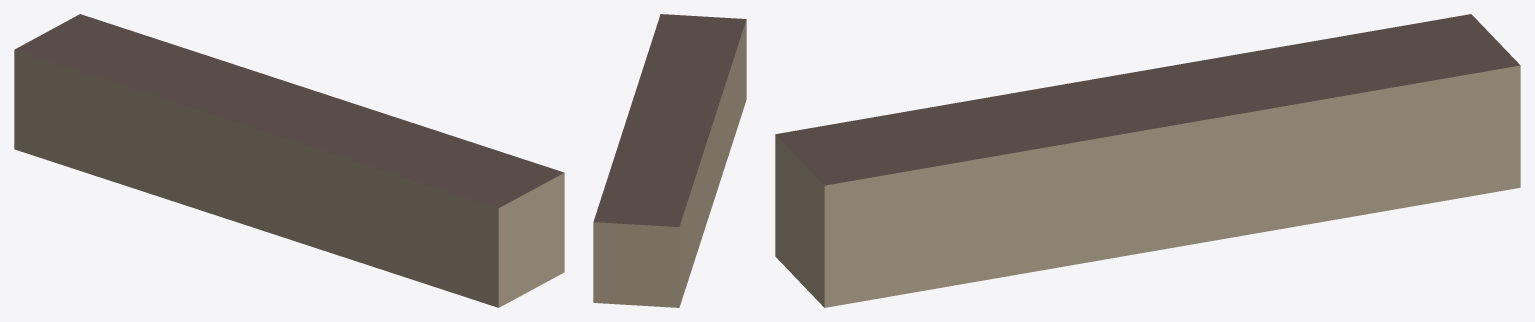
The picture shows the model from 3 angles, left to right: view 1: azimuth 30°, elevation 25°; view 2: azimuth 150°, elevation 25°; view 3: azimuth 270°, elevation 25°; orthographic projection. The views are drawn at different scales.
Visible parts, largest first — view 1: HP-w373833562; view 2: HP-w373833562; view 3: HP-w373833562.
Boxes of the visible parts, x1=… form: HP-w373833562: x1=14, y1=14, x2=564, y2=307; HP-w373833562: x1=593, y1=14, x2=746, y2=307; HP-w373833562: x1=775, y1=14, x2=1520, y2=307.
Bounding box in the file's own units: 27.09 × 9 × 49.7.
